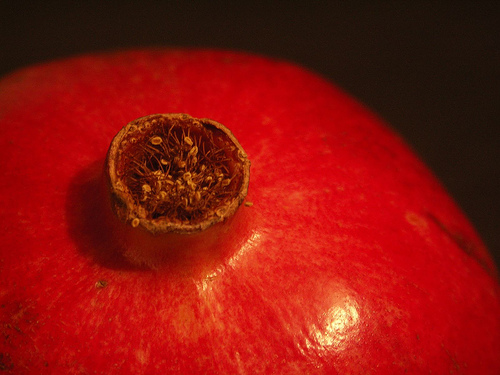pomogranate: (0, 48, 499, 373)
